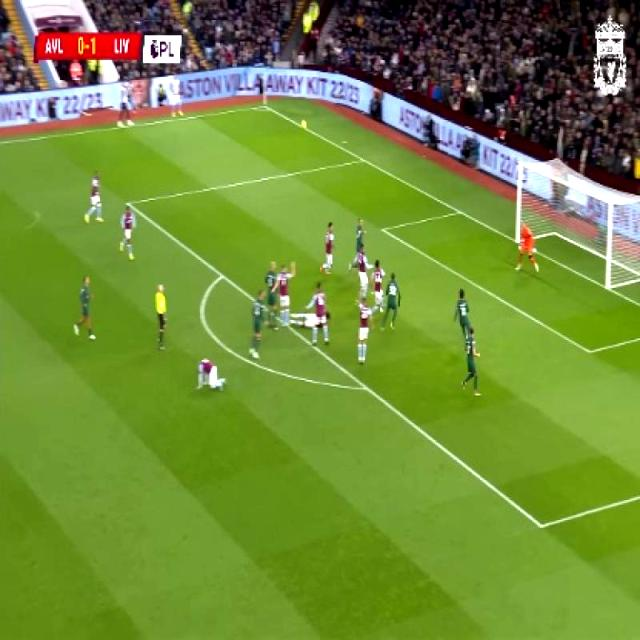bigarea_bottom_inner: (531, 512, 552, 540)
bigarea_top_inner: (121, 195, 132, 212)
bigarea_top_outter: (357, 154, 368, 166)
bottom_arc_area_intersection: (359, 378, 371, 397)
corner: (257, 101, 268, 109)
smallarea_bottom_inner: (580, 338, 597, 364)
smallarea_top_inner: (375, 222, 390, 236)
smallarea_top_outter: (452, 203, 466, 220)
top_arc_area_intersection: (217, 268, 226, 282)
